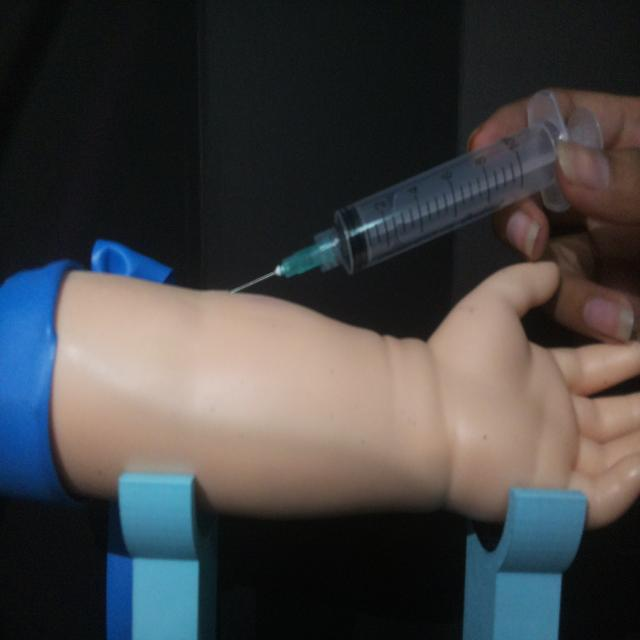22deg: (223, 87, 604, 299)
